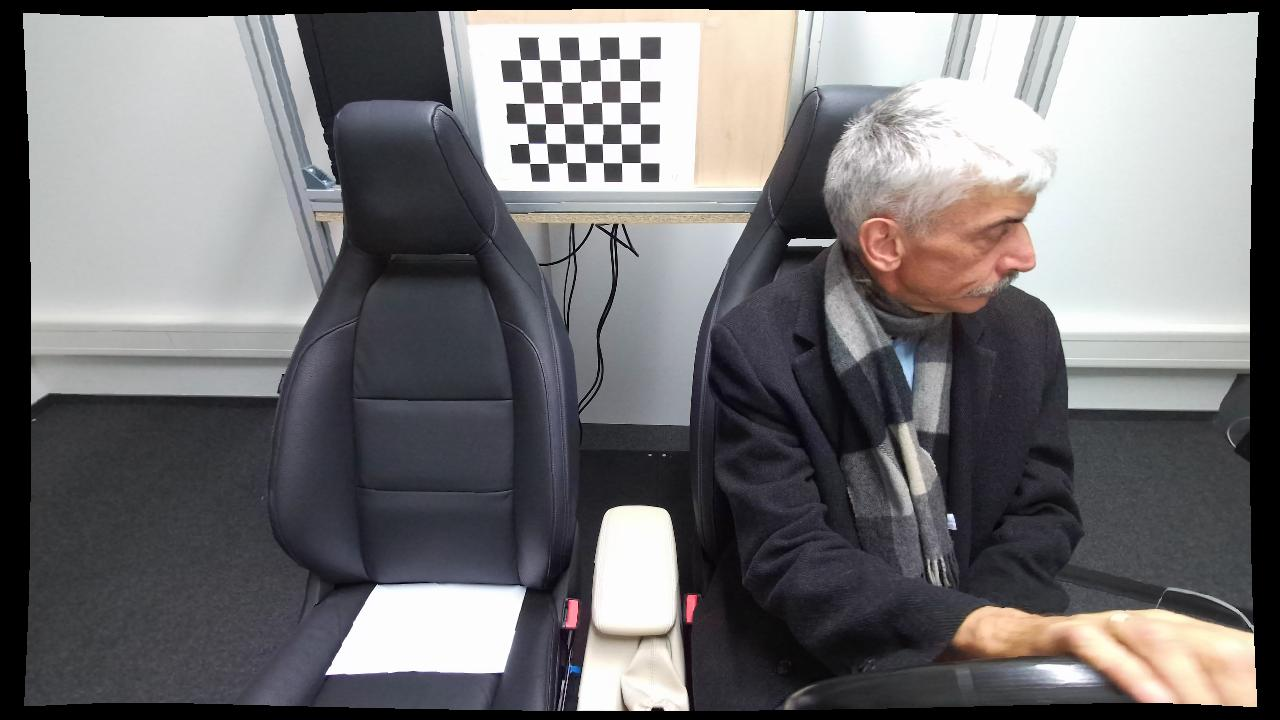Distracted: (694, 63, 1183, 699)
